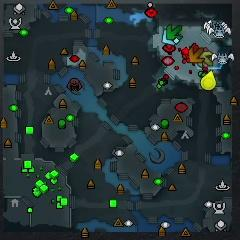p4: (201, 70, 216, 91)
x2: (199, 51, 214, 68)
x3: (163, 28, 178, 46)
x4: (165, 24, 183, 41)
x5: (188, 47, 204, 64)
